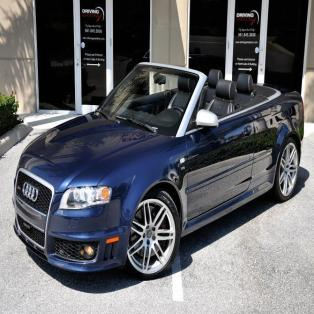Auto: (12, 62, 304, 282)
